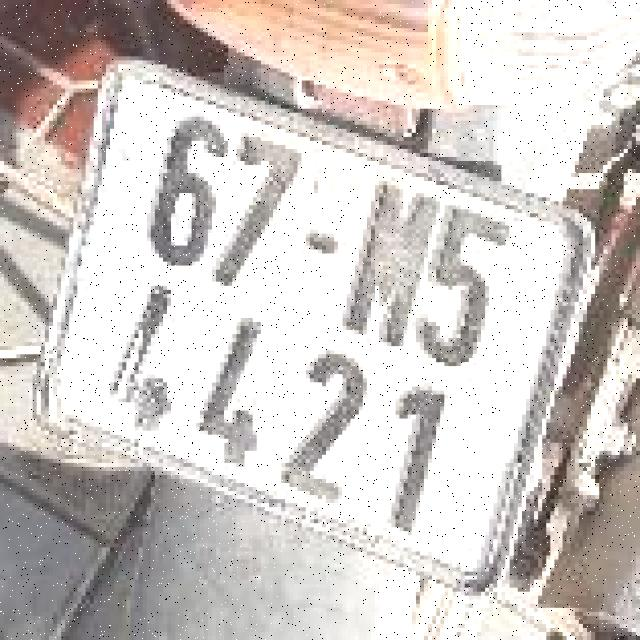1: (382, 374, 446, 548)
2: (283, 334, 365, 519)
4: (192, 310, 265, 475), (110, 272, 175, 449)
5: (426, 204, 512, 368)
6: (138, 98, 232, 276)
7: (222, 125, 308, 294)
M: (341, 173, 438, 346)
